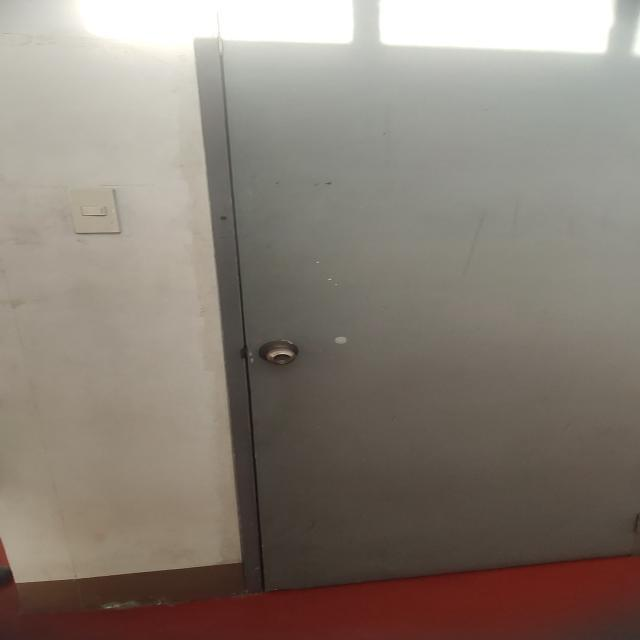door: (187, 37, 640, 597)
